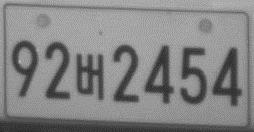2: (43, 41, 71, 100), (112, 43, 139, 103)
4: (211, 46, 243, 107), (143, 43, 173, 104)
5: (180, 46, 208, 104)
9: (11, 39, 38, 98)
버: (75, 52, 106, 101)
